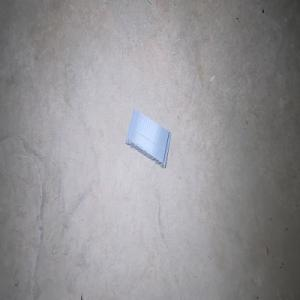PlasticPart: (124, 109, 171, 169)
